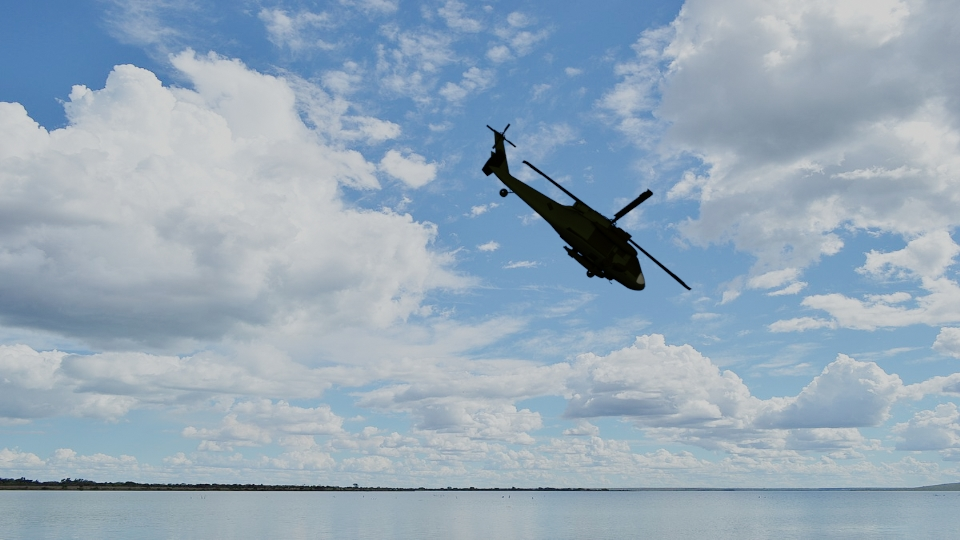heli: (480, 123, 692, 301)
